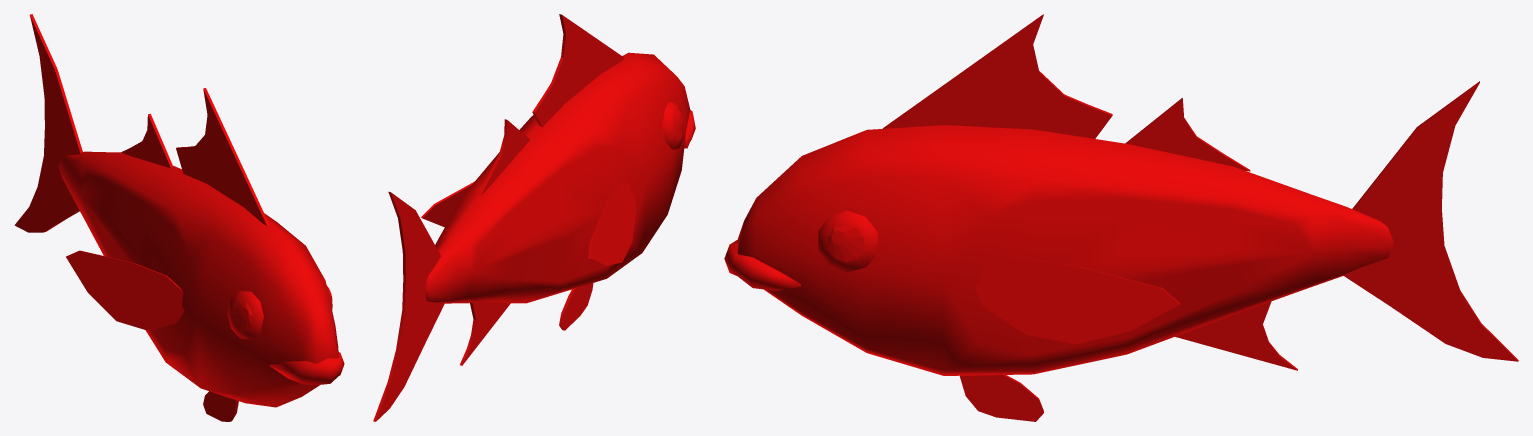
3 views of the same model, side by side, from view 1: azimuth 30°, elevation 25°; view 2: azimuth 150°, elevation 25°; view 3: azimuth 270°, elevation 25° (orthographic). The views are drawn at different scales.
Visible parts, largest first — view 1: Fish_Tuna; view 2: Fish_Tuna; view 3: Fish_Tuna.
Boxes of the visible parts, x1=… form: Fish_Tuna: x1=14, y1=14, x2=344, y2=421; Fish_Tuna: x1=373, y1=14, x2=695, y2=421; Fish_Tuna: x1=724, y1=14, x2=1518, y2=421.
Size of the model in its own units: 0.3415 by 0.6126 by 1.09.
